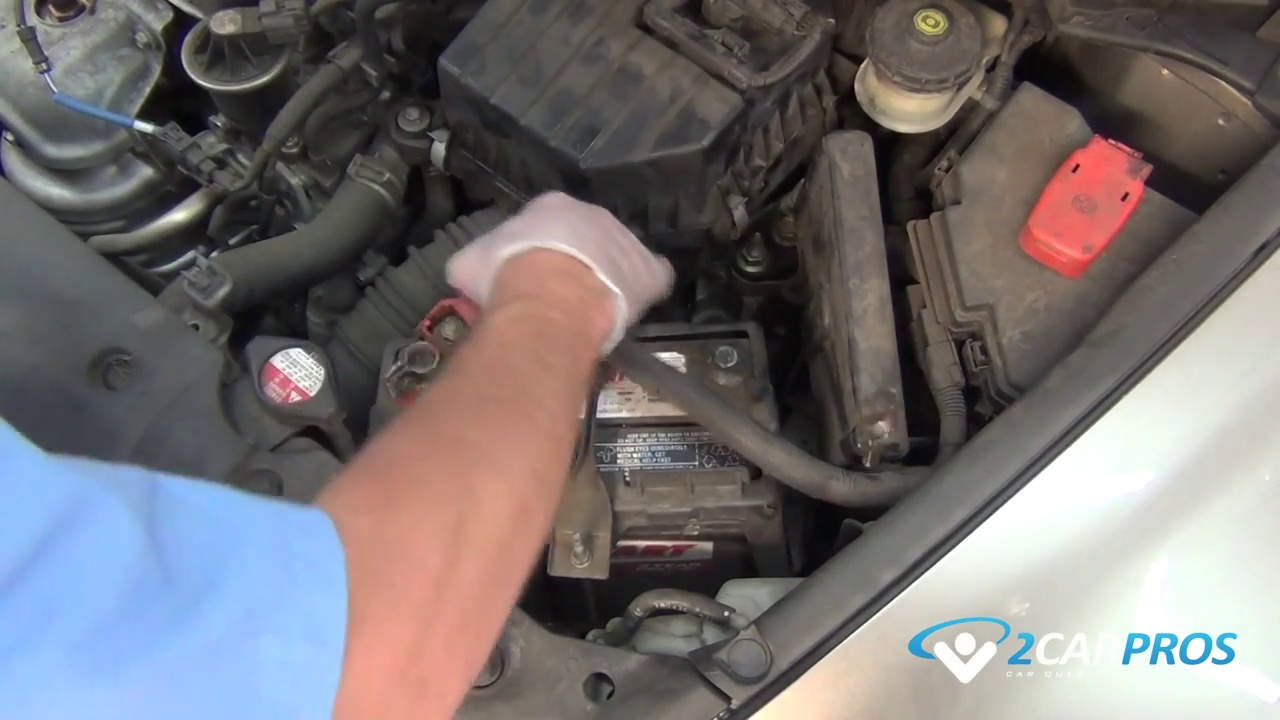battery: (361, 320, 778, 534)
neg_disconnected: (675, 324, 780, 406)
pos_touched: (384, 254, 565, 439)
